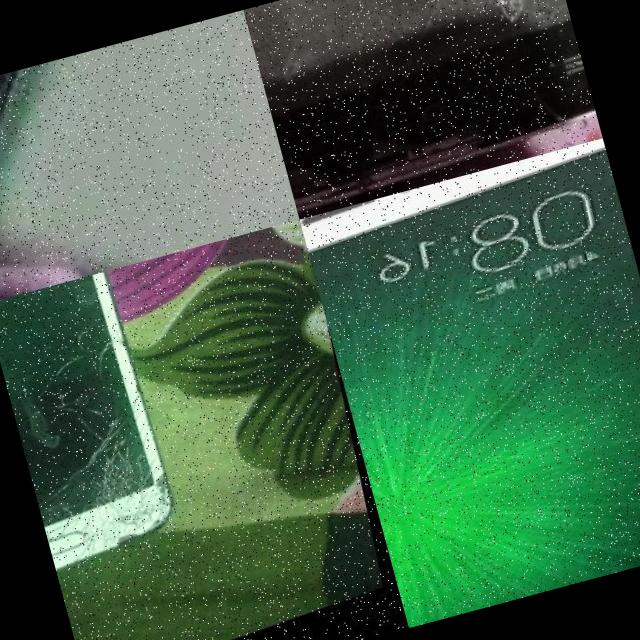screen crack: (243, 0, 602, 219), (22, 408, 201, 590)
